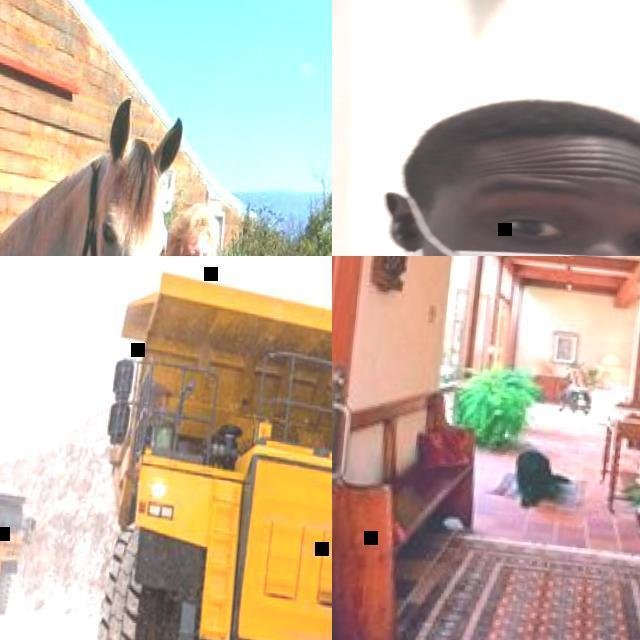no_helmet: (417, 82, 640, 207), (173, 200, 222, 248)
